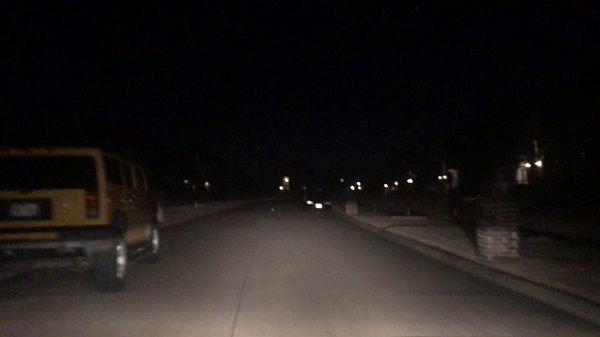car: (300, 190, 336, 213)
truck: (4, 145, 165, 293)
